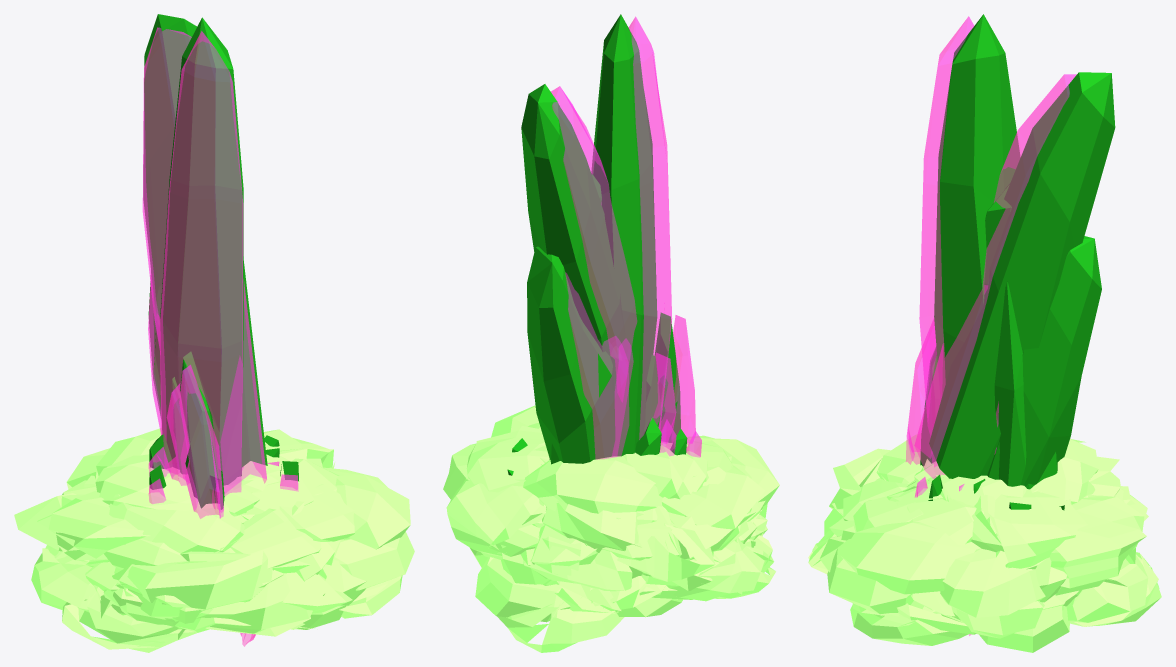
The model's file is XRYSTAL37.gltf.
3 renders of one model, left to right at view 1: azimuth 30°, elevation 25°; view 2: azimuth 150°, elevation 25°; view 3: azimuth 270°, elevation 25°, orthographic. The views are drawn at different scales.
Parts seen in each view (by area): view 1: Cube.001, Circle.001, Circle; view 2: Cube.001, Circle.001, Circle; view 3: Circle.001, Cube.001, Circle.
Part boxes in pixels (x1,y1,x2,y2): Cube.001: (14, 428, 414, 652); Circle.001: (143, 14, 298, 509); Circle: (142, 27, 298, 646); Cube.001: (443, 405, 779, 652); Circle.001: (507, 14, 687, 475); Circle: (551, 16, 701, 459); Circle.001: (920, 14, 1115, 510); Cube.001: (808, 434, 1161, 652); Circle: (906, 16, 1076, 635).
Size of the model in its own units: 2.79 by 4.94 by 2.59.
